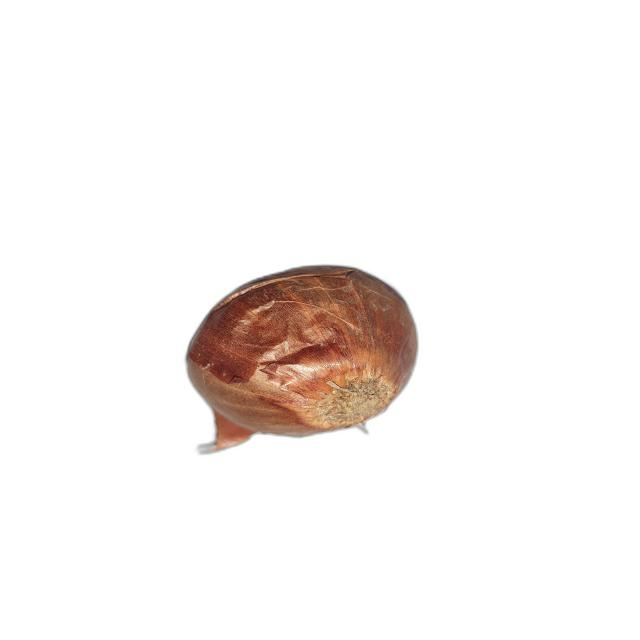onion: (186, 266, 420, 452)
